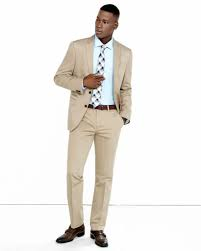F_belt: (77, 98, 126, 115)
F_tie: (90, 44, 109, 111)
